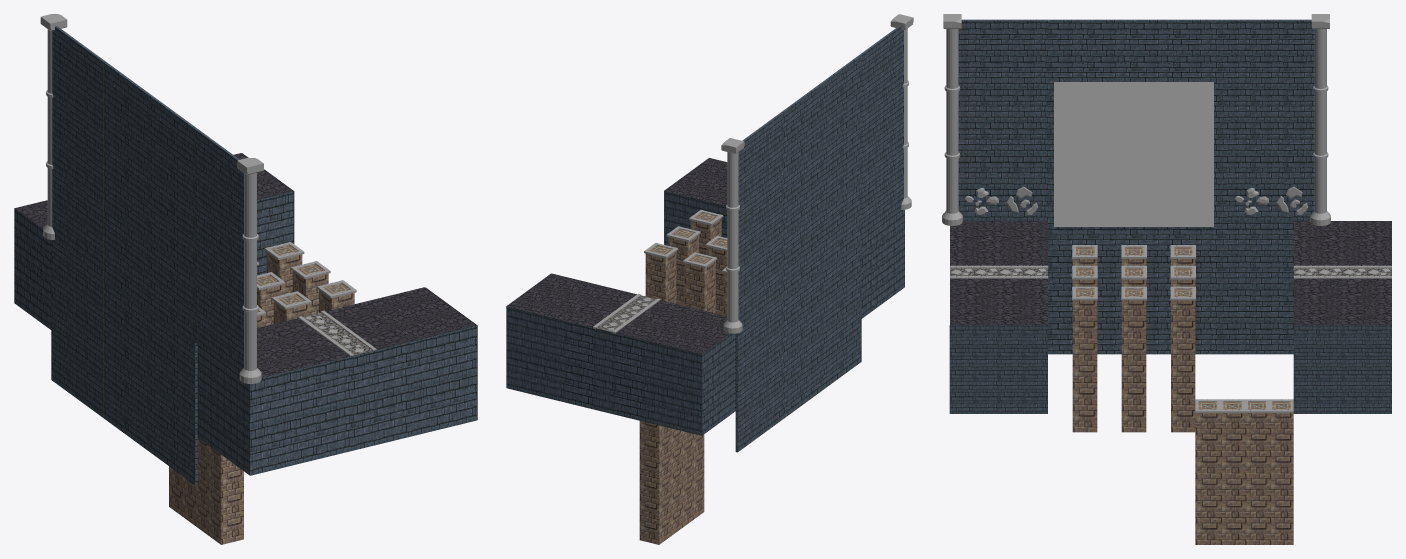
The model's file is 7矩阵谜题三版.fbx.
3 views of the same model, side by side, from view 1: azimuth 30°, elevation 25°; view 2: azimuth 150°, elevation 25°; view 3: azimuth 270°, elevation 25° (orthographic). The views are drawn at different scales.
Visible parts, largest first — view 1: Cube.322, Cube.421, Cube.324, 墙2.020, 墙2.024, 墙2.023, 墙2.021, 墙2.022, 墙2.017, 墙3.037, 墙3.034, 墙2.018 (+20 smaller); view 2: Cube.324, Cube.323, Cube.593, Cube.322, Cube.421, 墙2.024, 墙2.023, 墙2.020, 墙2.021, 墙2.022, 墙2.017, 墙2.018 (+22 smaller); view 3: 提示板, 地面贴片1.013, 地面贴片1.015, 墙2.020, 墙2.021, 墙2.017, 墙2.018, 墙2.022, 墙3.039, 墙3.024, 墙2.019, 墙2.024 (+20 smaller).
Part boxes in pixels (<box>): Cube.322: <box>197,318,352,475</box>; Cube.421: <box>325,287,476,445</box>; Cube.324: <box>14,200,51,329</box>; 墙2.020: <box>52,26,105,132</box>; 墙2.024: <box>51,309,103,417</box>; 墙2.023: <box>51,240,103,346</box>; 墙2.021: <box>52,97,103,204</box>; 墙2.022: <box>52,168,103,275</box>; 墙2.017: <box>195,129,243,234</box>; 墙3.037: <box>149,381,197,485</box>; 墙3.034: <box>149,310,197,414</box>; 墙2.018: <box>195,201,243,305</box>; Cube.324: <box>614,300,735,435</box>; Cube.323: <box>506,273,636,409</box>; Cube.593: <box>639,421,670,544</box>; Cube.322: <box>861,210,904,318</box>; Cube.421: <box>664,158,727,245</box>; 墙2.024: <box>735,358,782,452</box>; 墙2.023: <box>735,297,782,390</box>; 墙2.020: <box>738,112,782,205</box>; 墙2.021: <box>738,174,782,266</box>; 墙2.022: <box>738,235,782,325</box>; 墙2.017: <box>860,25,903,115</box>; 墙2.018: <box>861,86,903,177</box>; 提示板: <box>1054,82,1213,226</box>; 地面贴片1.013: <box>949,325,1047,413</box>; 地面贴片1.015: <box>1293,325,1391,413</box>; 墙2.020: <box>1220,19,1314,87</box>; 墙2.021: <box>1220,87,1314,153</box>; 墙2.017: <box>958,19,1047,87</box>; 墙2.018: <box>958,87,1047,153</box>; 墙2.022: <box>1220,154,1314,220</box>; 墙3.039: <box>1134,19,1219,87</box>; 墙3.024: <box>1048,19,1133,87</box>; 墙2.019: <box>958,154,1047,220</box>; 墙2.024: <box>1220,287,1293,354</box>.
Bounding box in the file's own units: 2073 × 4232 × 3665.
